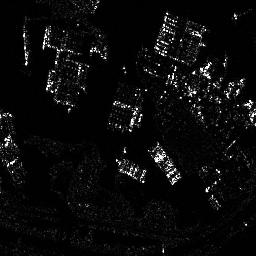ship: (21, 16, 32, 67)
